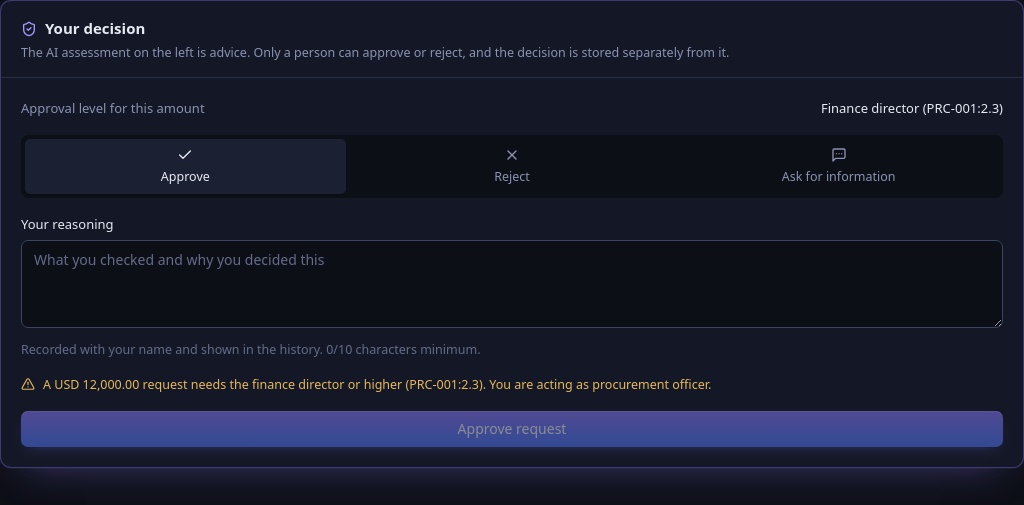
it: DecisionPanel › explains an insufficient approval level and keeps approve disabled
Type "Checked everything carefully" into the text box labelled "Your reasoning" at (512, 284), box left=21, top=240, right=1003, bottom=328
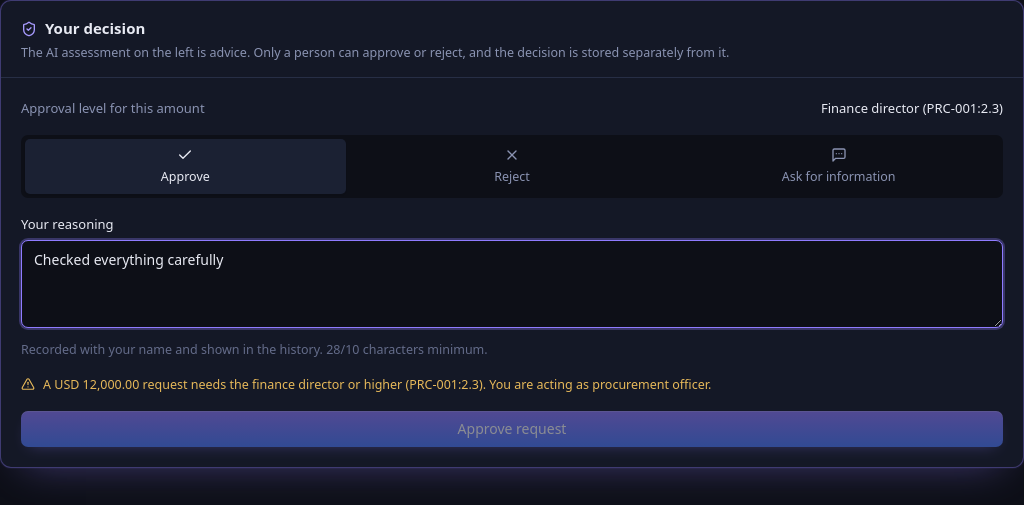
Expected: the list item "needs the finance director or higher" is shown, left=43, top=376, right=711, bottom=393
Expected: the button "Approve request" is disabled, left=21, top=410, right=1003, bottom=446
Click the radio button labelled "Reject" at (512, 166), box left=352, top=139, right=672, bottom=194
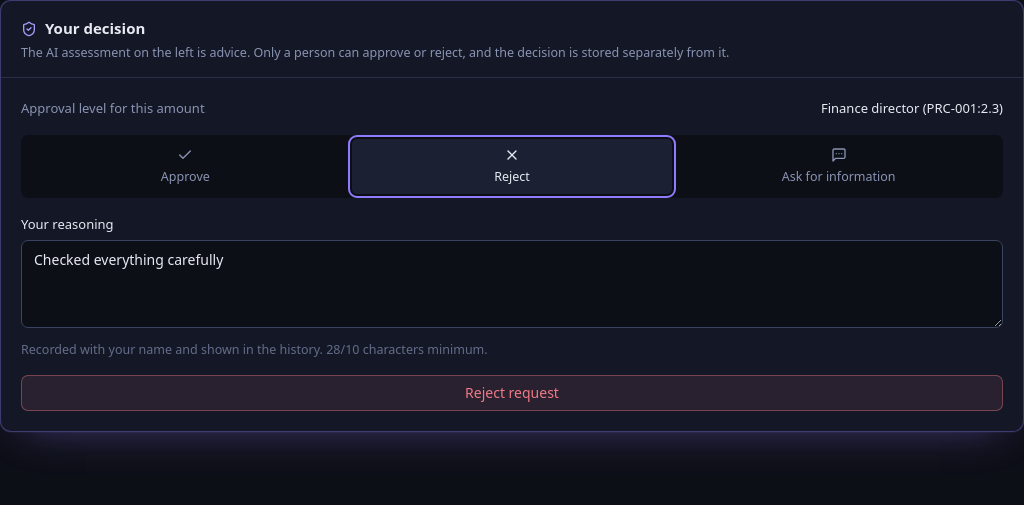
Now the button "Reject request" is enabled, box left=21, top=375, right=1003, bottom=411
